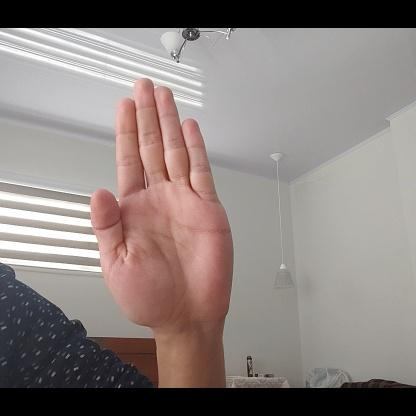B: (88, 76, 236, 331)
